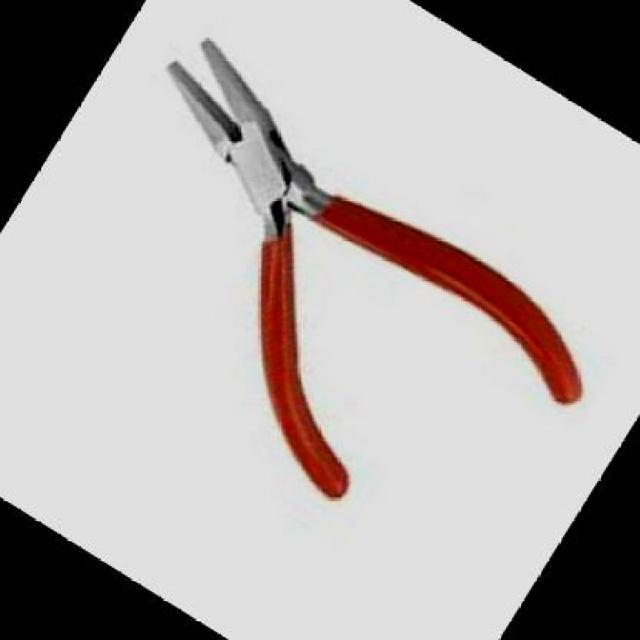pliers: (0, 0, 638, 615)
